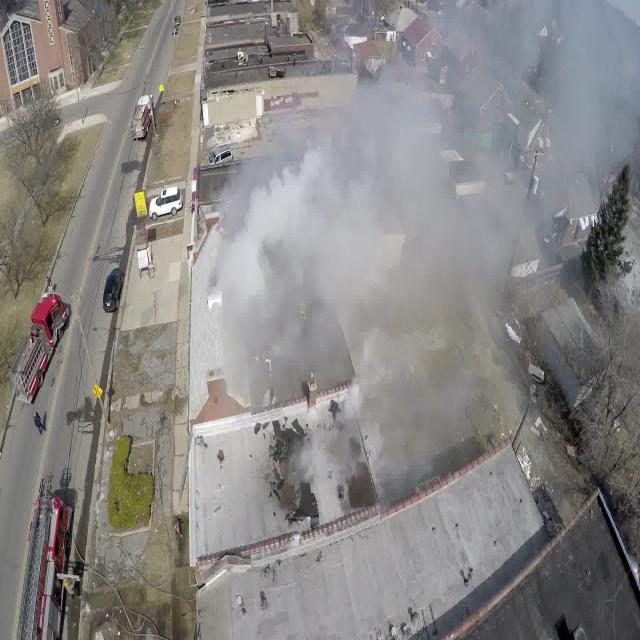smoke: (239, 130, 490, 453), (494, 0, 640, 203)
